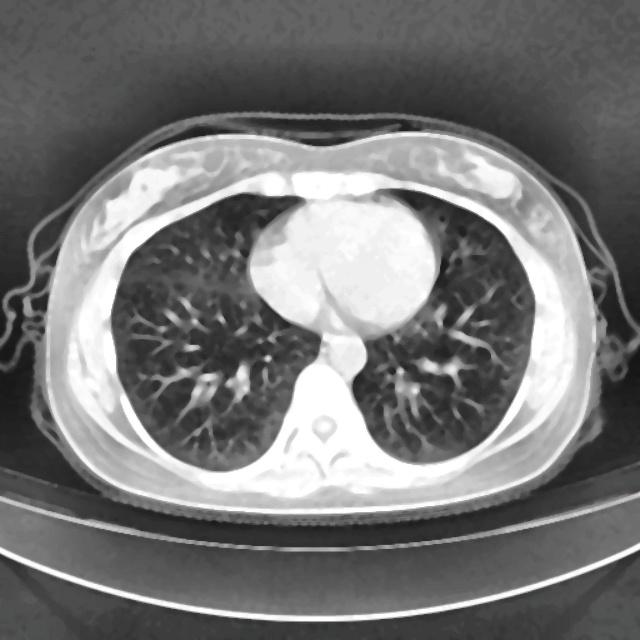covid: (21, 119, 618, 526)
